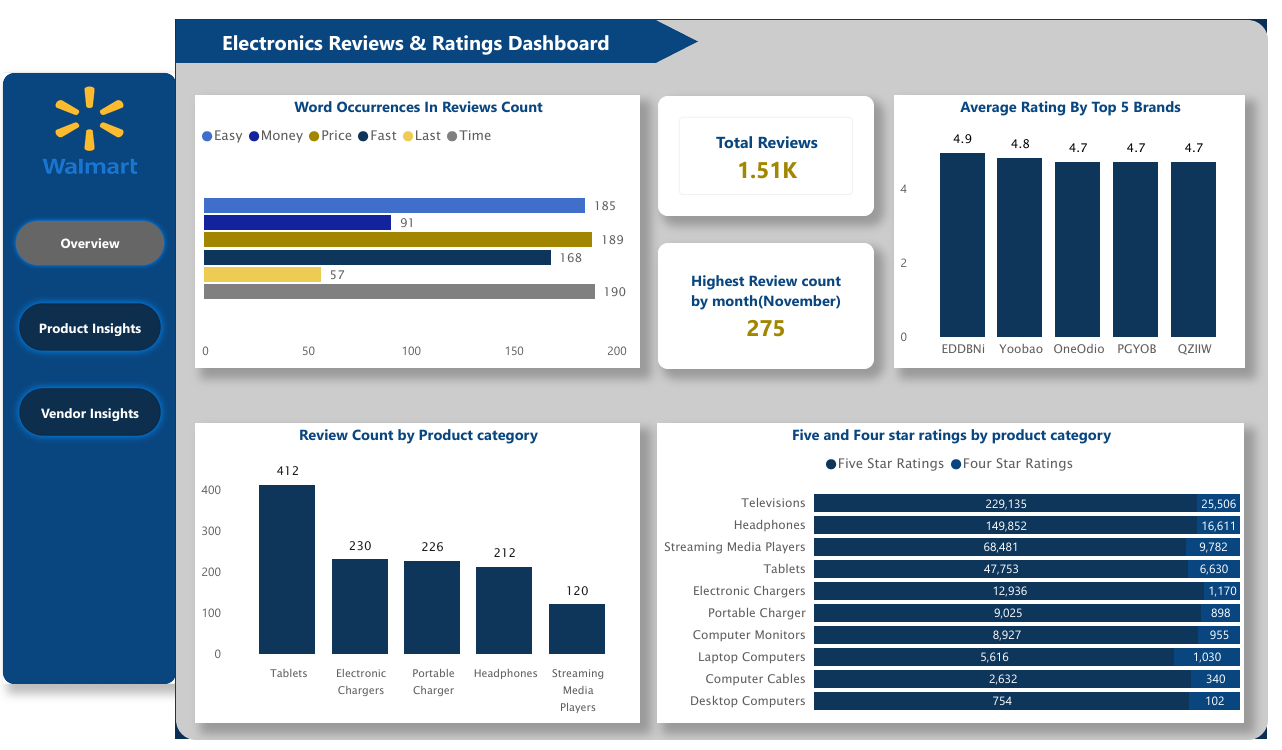

Layout of this report page (visuals, bound fields, positions):
{"tool":"powerbi","page":{"name":"Overview","canvas":[1280,720],"ordinal":0},"visuals":[{"type":"shape","box":[15.2,52.8,172.8,611.6],"z":0},{"type":"shape","box":[188,0,1092,720],"z":1000},{"type":"clusteredColumnChart","title":"Review Count by Product category","fields":{"Category":["Product.Product Type"],"Y":["CountNonNull(Orders.Review)"]},"box":[208.2,403.9,444.3,299.8],"z":2000},{"type":"shape","box":[188.1,0,522.1,43],"z":3000},{"type":"pageNavigator","box":[23.3,196.1,157.6,53.7],"z":4000},{"type":"pageNavigator","box":[23.3,274.9,157.6,63.6],"z":5000},{"type":"pageNavigator","box":[23.3,360,157.6,63.6],"z":6000},{"type":"image","box":[7.7,60.7,188,108],"z":7000},{"type":"hundredPercentStackedBarChart","title":"Five and Four star ratings by product category","fields":{"Category":["Product.Product Type"],"Y":["Sum(Product.FiveStarRatings)","Sum(Product.FourStarRatings)"]},"box":[669.9,403.9,587,299.8],"z":8000},{"type":"cardVisual","fields":{"Data":["CountNonNull(Orders.Review)"]},"box":[669.9,76.1,215.9,119.5],"z":9000},{"type":"clusteredBarChart","title":"Word Occurrences In Reviews Count","fields":{"Y":["Orders.Easy_Occurrences","Orders.Money_Occurrences","Orders.Price_Occurrences","Orders.Fast_Occurrences","Orders.Last_Occurrences","Orders.Time_Occurrences"]},"box":[208.2,76.1,444.3,272.8],"z":10000},{"type":"clusteredColumnChart","title":"Average Rating By Top 5 Brands","fields":{"Category":["Product.brand"],"Y":["Avg(Product.AverageRating)"]},"box":[907,76.1,350.8,272.8],"z":11000},{"type":"cardVisual","fields":{"Data":["CountNonNull(Orders.Review)"]},"box":[669.9,222.7,215.9,126.3],"z":12000}]}

Visuals, with their boxes on the page's 1280x720 design canvas (x1, y1, x2, y2). These are canvas units, not pixel positions in the 1282x750 screenshot, which may show the page scaled, cropped or inside an application window:
shape: [15,53,188,664]
shape: [188,0,1280,720]
"Review Count by Product category" clusteredColumnChart: [208,404,652,704]
shape: [188,0,710,43]
pageNavigator: [23,196,181,250]
pageNavigator: [23,275,181,338]
pageNavigator: [23,360,181,424]
image: [8,61,196,169]
"Five and Four star ratings by product category" hundredPercentStackedBarChart: [670,404,1257,704]
cardVisual - CountNonNull(Orders.Review): [670,76,886,196]
"Word Occurrences In Reviews Count" clusteredBarChart: [208,76,652,349]
"Average Rating By Top 5 Brands" clusteredColumnChart: [907,76,1258,349]
cardVisual - CountNonNull(Orders.Review): [670,223,886,349]
